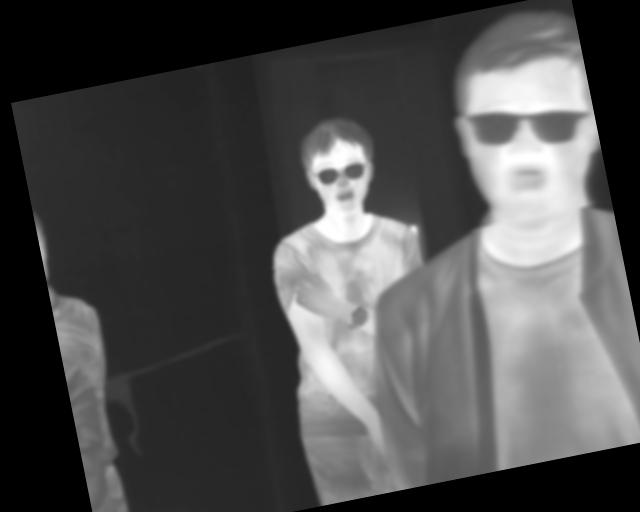face: (433, 1, 613, 237), (294, 110, 385, 222)
